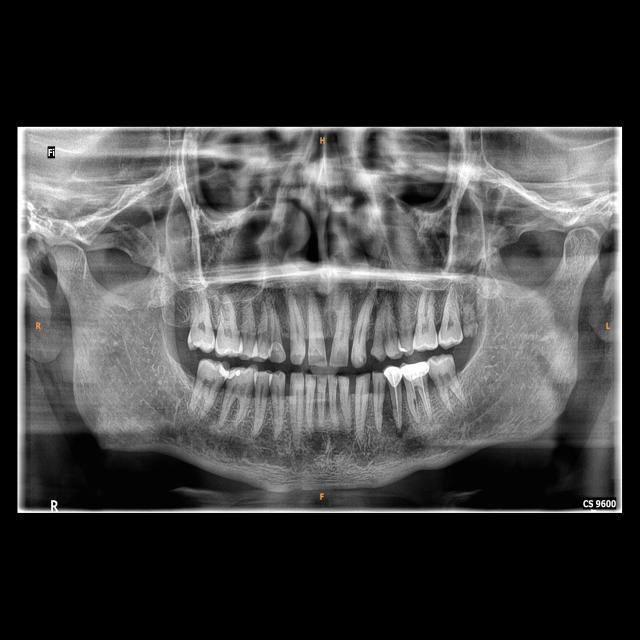dolgu: (213, 364, 230, 381), (231, 366, 244, 380)
kanal-tedavisi: (410, 380, 430, 412), (392, 385, 402, 420)
kaplama: (399, 362, 434, 379), (385, 363, 401, 389)
kok-enfeksiyonu: (390, 418, 413, 441)
